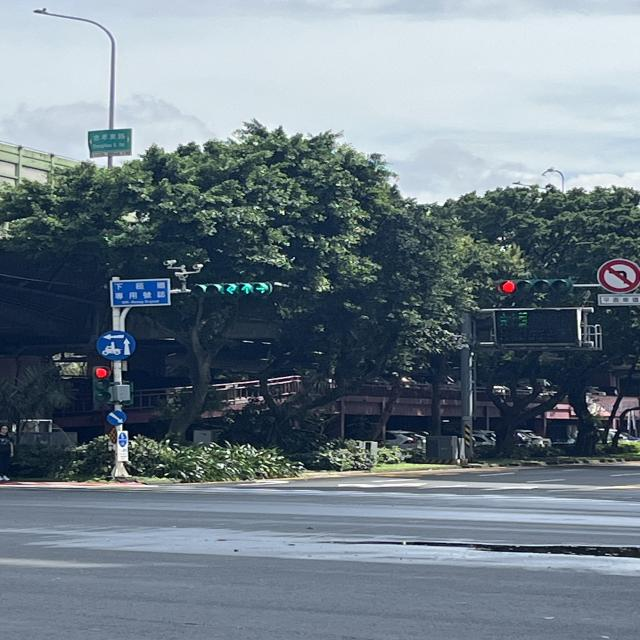green light: (193, 284, 277, 297)
red light: (499, 276, 572, 297), (95, 365, 112, 406)
